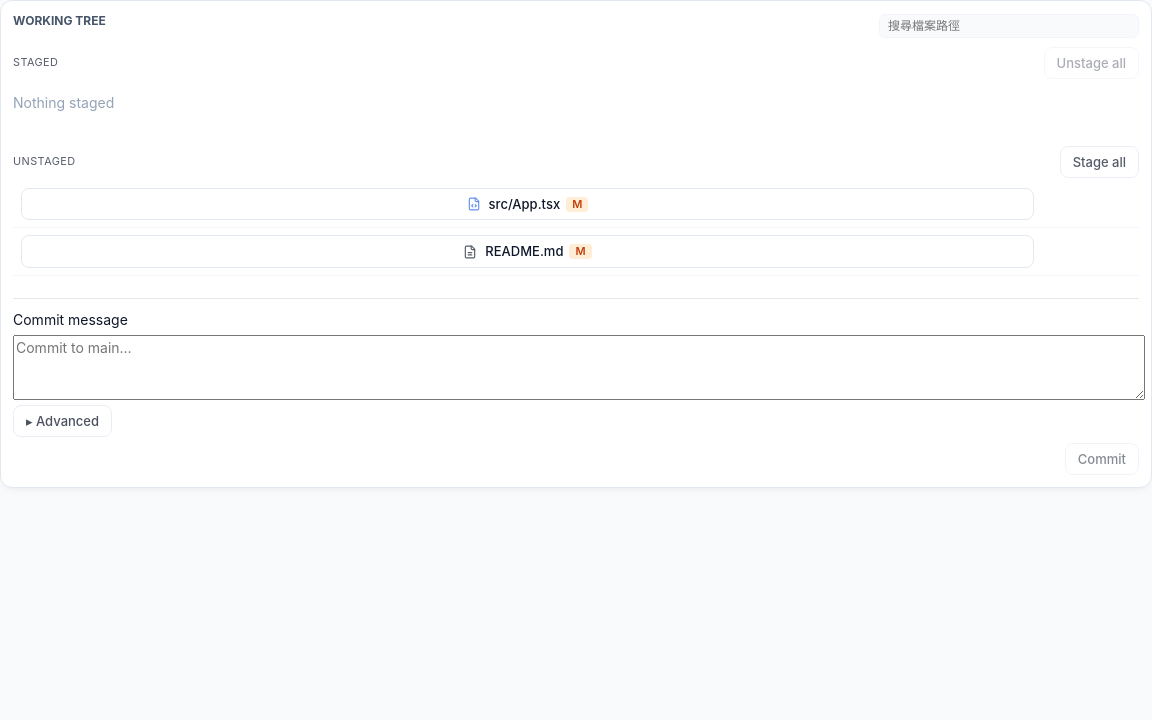
WorkingTreePanel filtering › filters the file list by the search query
The image size is (1152, 720).
Type "App" into the field named "Search files" at (1009,26), box [879,14,1139,38]
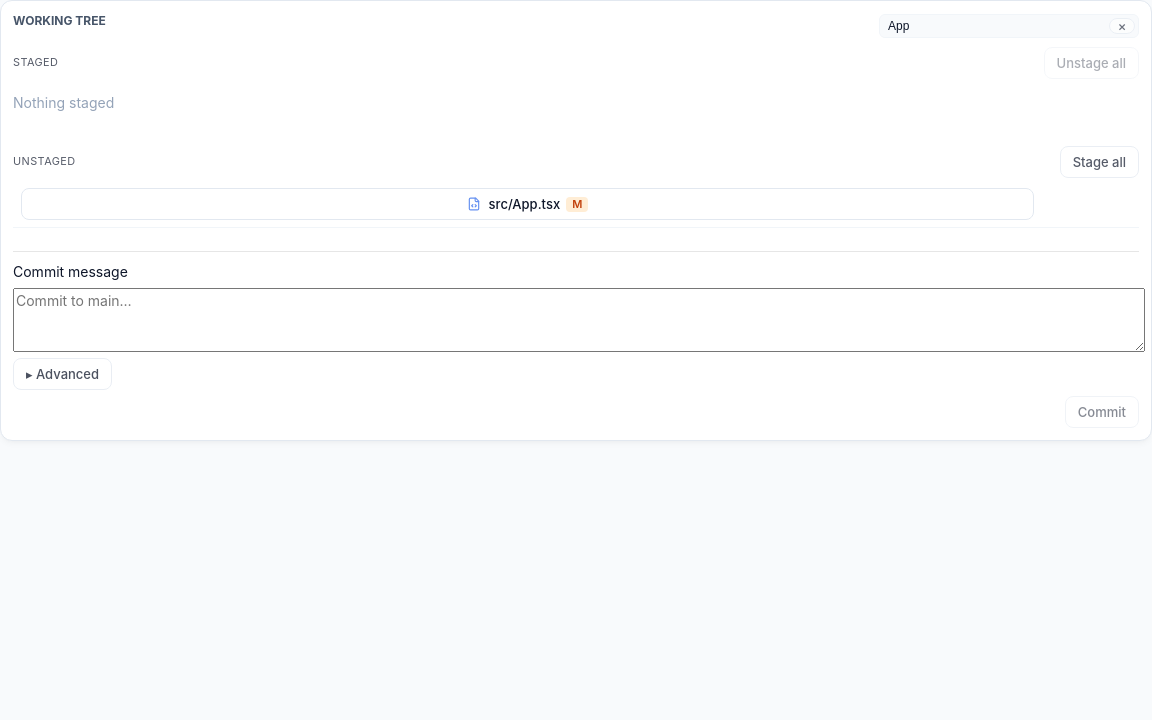
Expected: the text "src/App.tsx" is shown, [489,195,560,214]
Expected: the button "README.md" is gone
